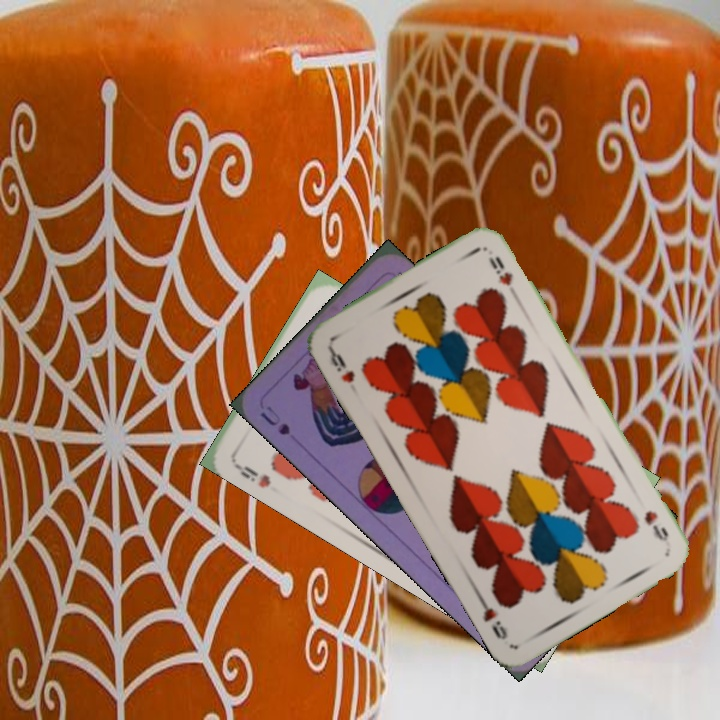H9: (229, 455, 274, 491), (325, 343, 358, 386), (640, 506, 671, 544)
SU: (256, 401, 293, 438)
